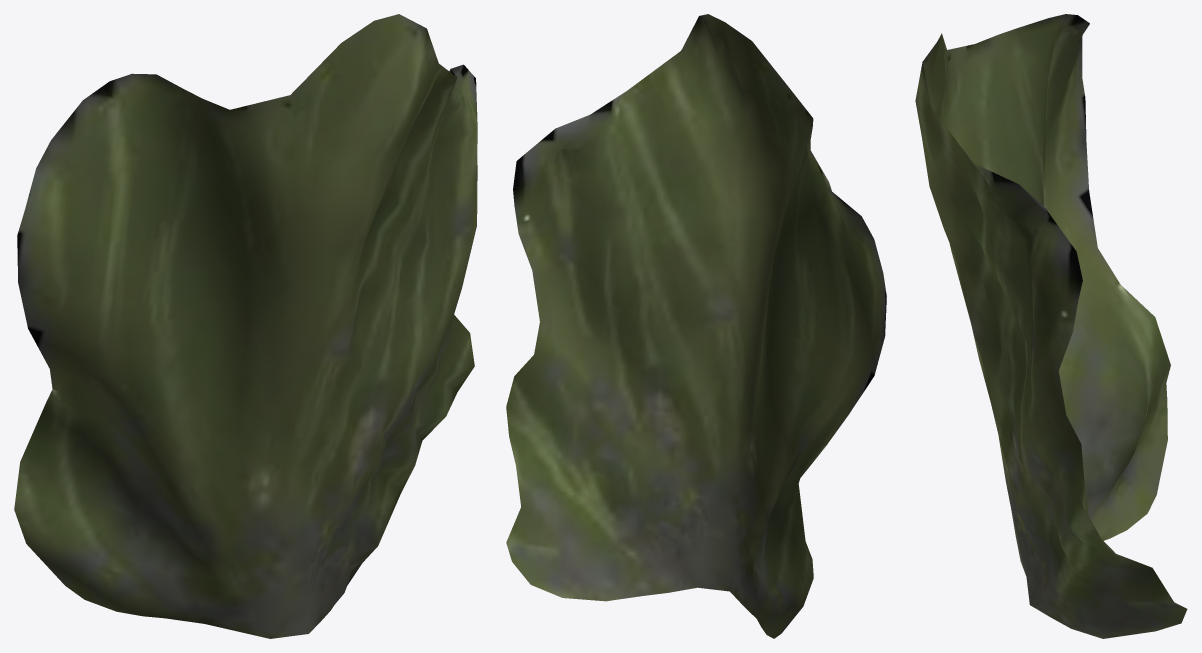
Rendered from CastleCabbage_02-transformed.glb.
3 renders of one model, left to right at view 1: azimuth 30°, elevation 25°; view 2: azimuth 150°, elevation 25°; view 3: azimuth 270°, elevation 25°, orthographic. The views are drawn at different scales.
Parts seen in each view (by area): view 1: CastleCabbage_02; view 2: CastleCabbage_02; view 3: CastleCabbage_02.
Boxes of the visible parts, x1,y1,x2,y2 form: CastleCabbage_02: [14, 14, 477, 638]; CastleCabbage_02: [506, 14, 886, 638]; CastleCabbage_02: [915, 14, 1187, 638].
Bounding box in the file's own units: 6.06 × 8.23 × 3.47.
1 material, 1 textured.
